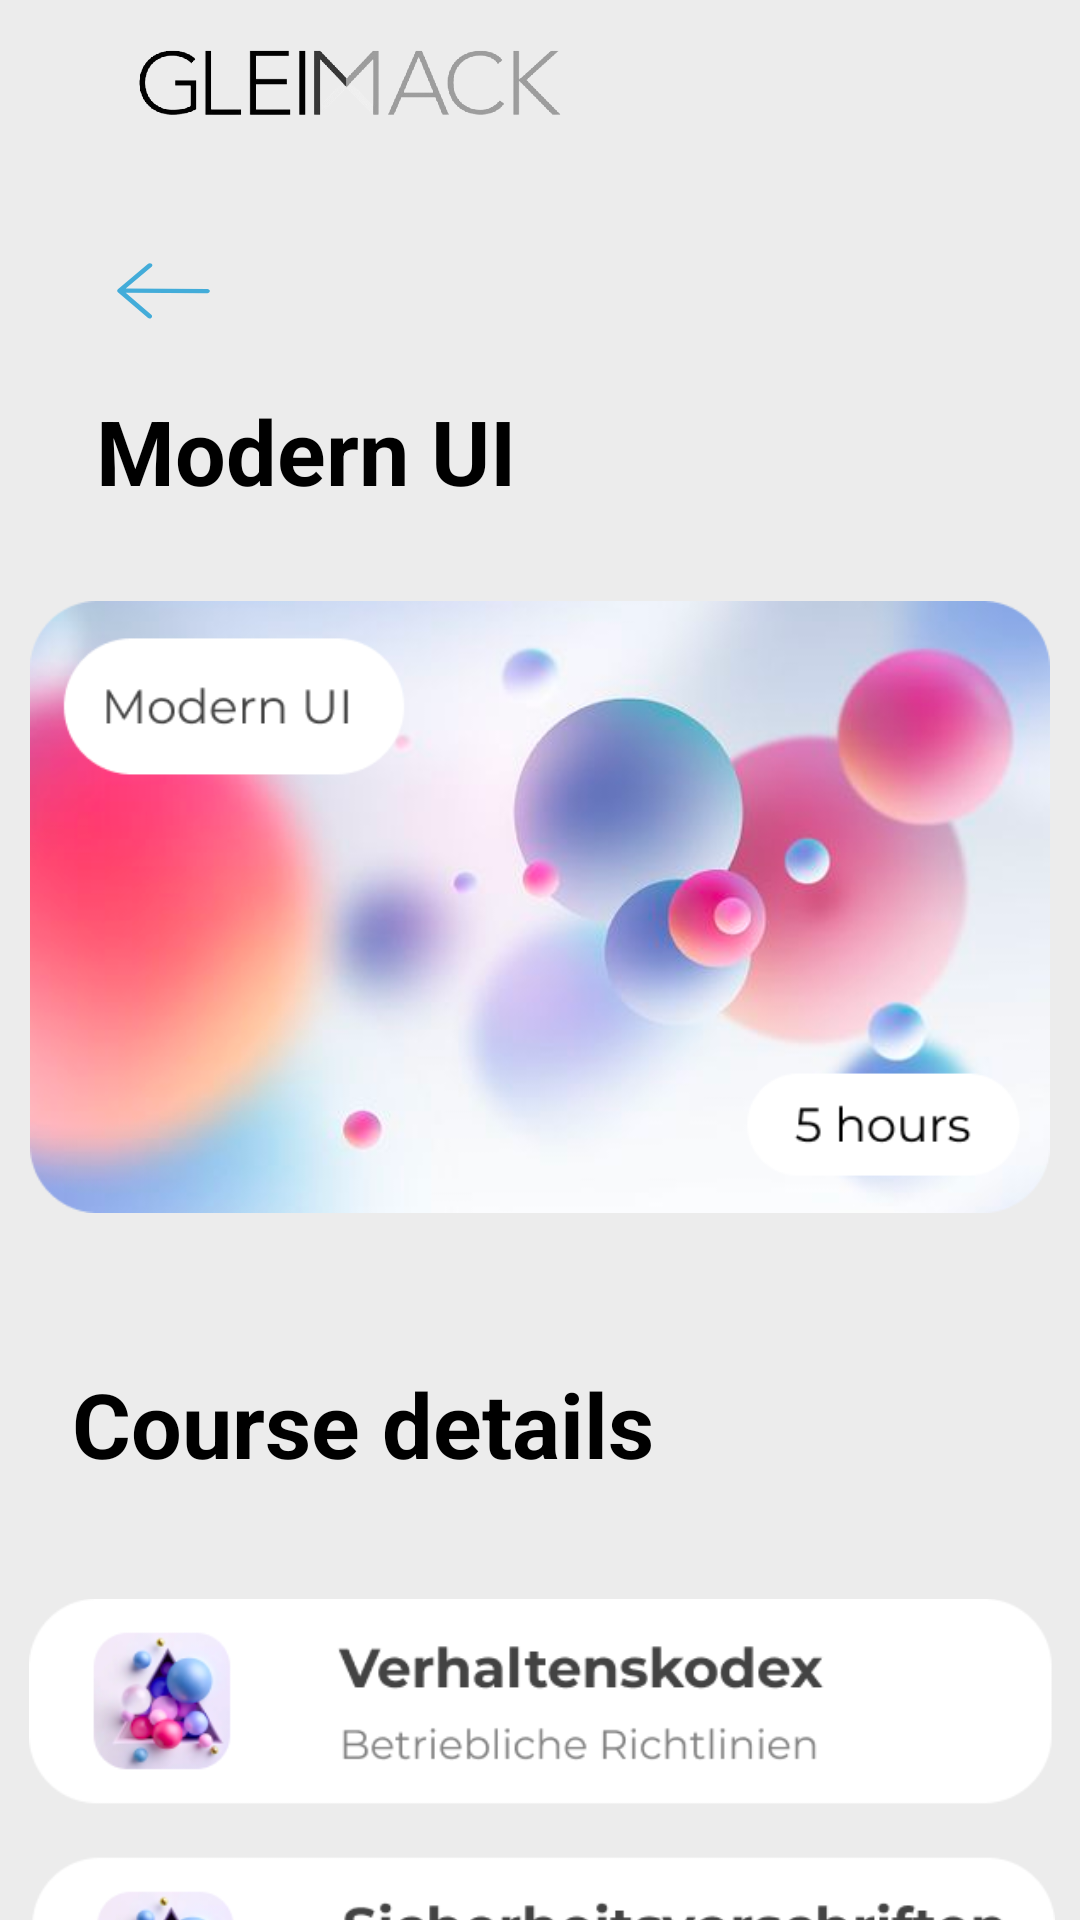

Locate icon controls on the screen. Image size 1080 x 1920, boxes as (x1=x1, y1=y1, x2=x2, y2=y2).
arrow: (x1=117, y1=263, x2=210, y2=319)
